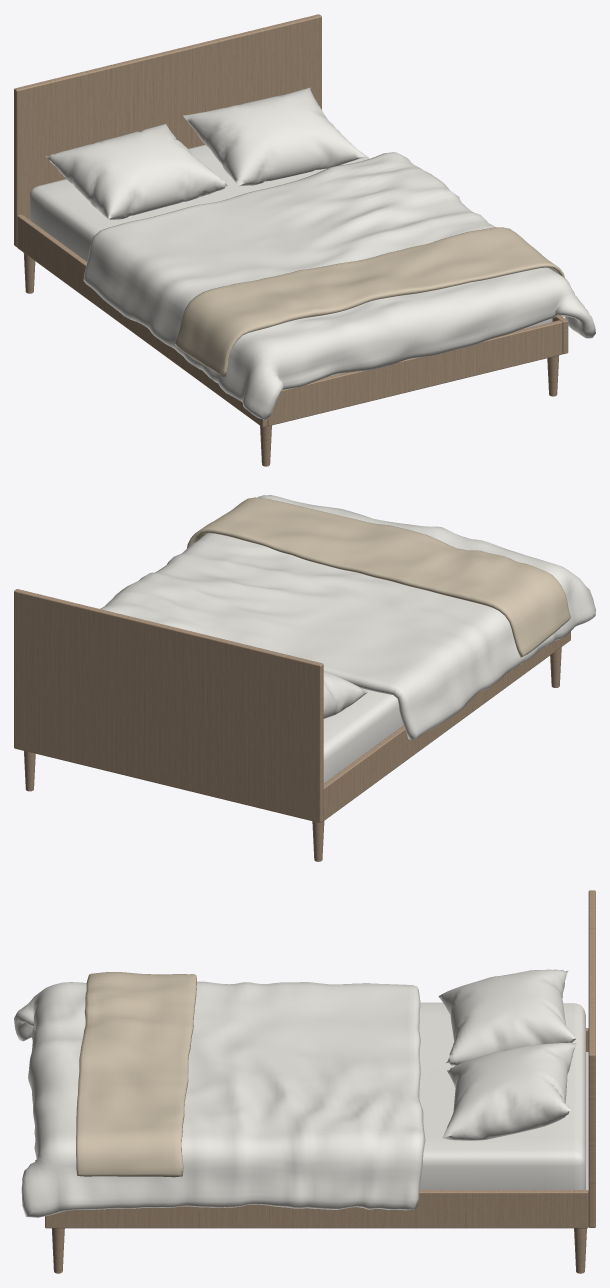
Rendered from bed_3.glb.
3 renders of one model, top to bottom at view 1: azimuth 30°, elevation 25°; view 2: azimuth 150°, elevation 25°; view 3: azimuth 270°, elevation 25°, orthographic. The views are drawn at different scales.
Visible parts, largest first — view 1: bed_v3; view 2: bed_v3; view 3: bed_v3.
Boxes of the visible parts, <box> form: bed_v3: <box>14,14,595,466</box>; bed_v3: <box>14,495,595,861</box>; bed_v3: <box>14,890,595,1273</box>.
Size of the model in its own units: 1.67 by 0.9199 by 2.18.
6 materials, 1 textured.
